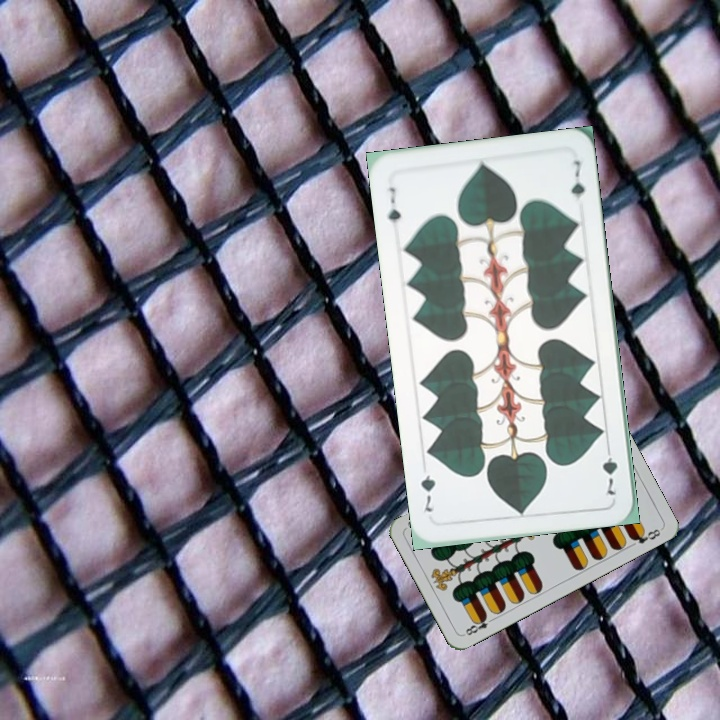E8: (460, 611, 498, 638)
G7: (598, 441, 620, 498), (384, 183, 403, 226)
